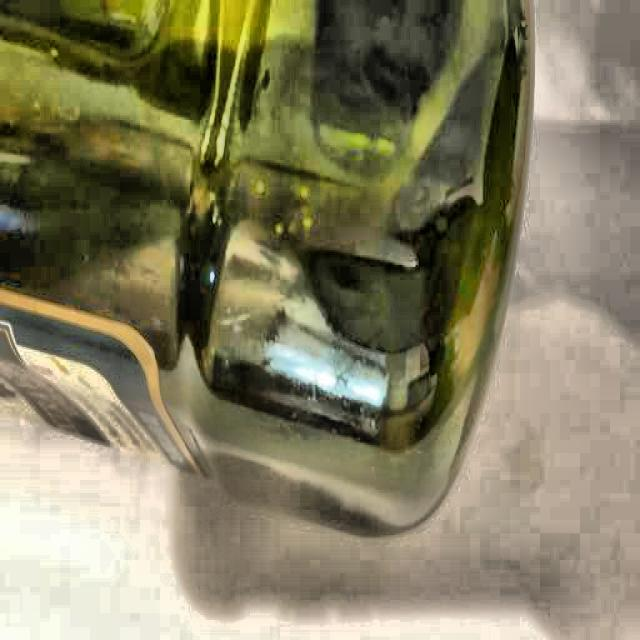plastic: (0, 15, 524, 540)
